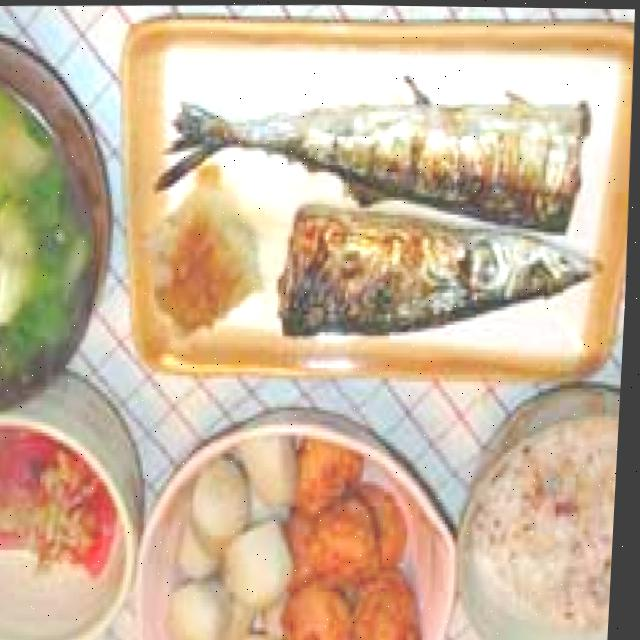熟制海鲜: (167, 89, 620, 351)
